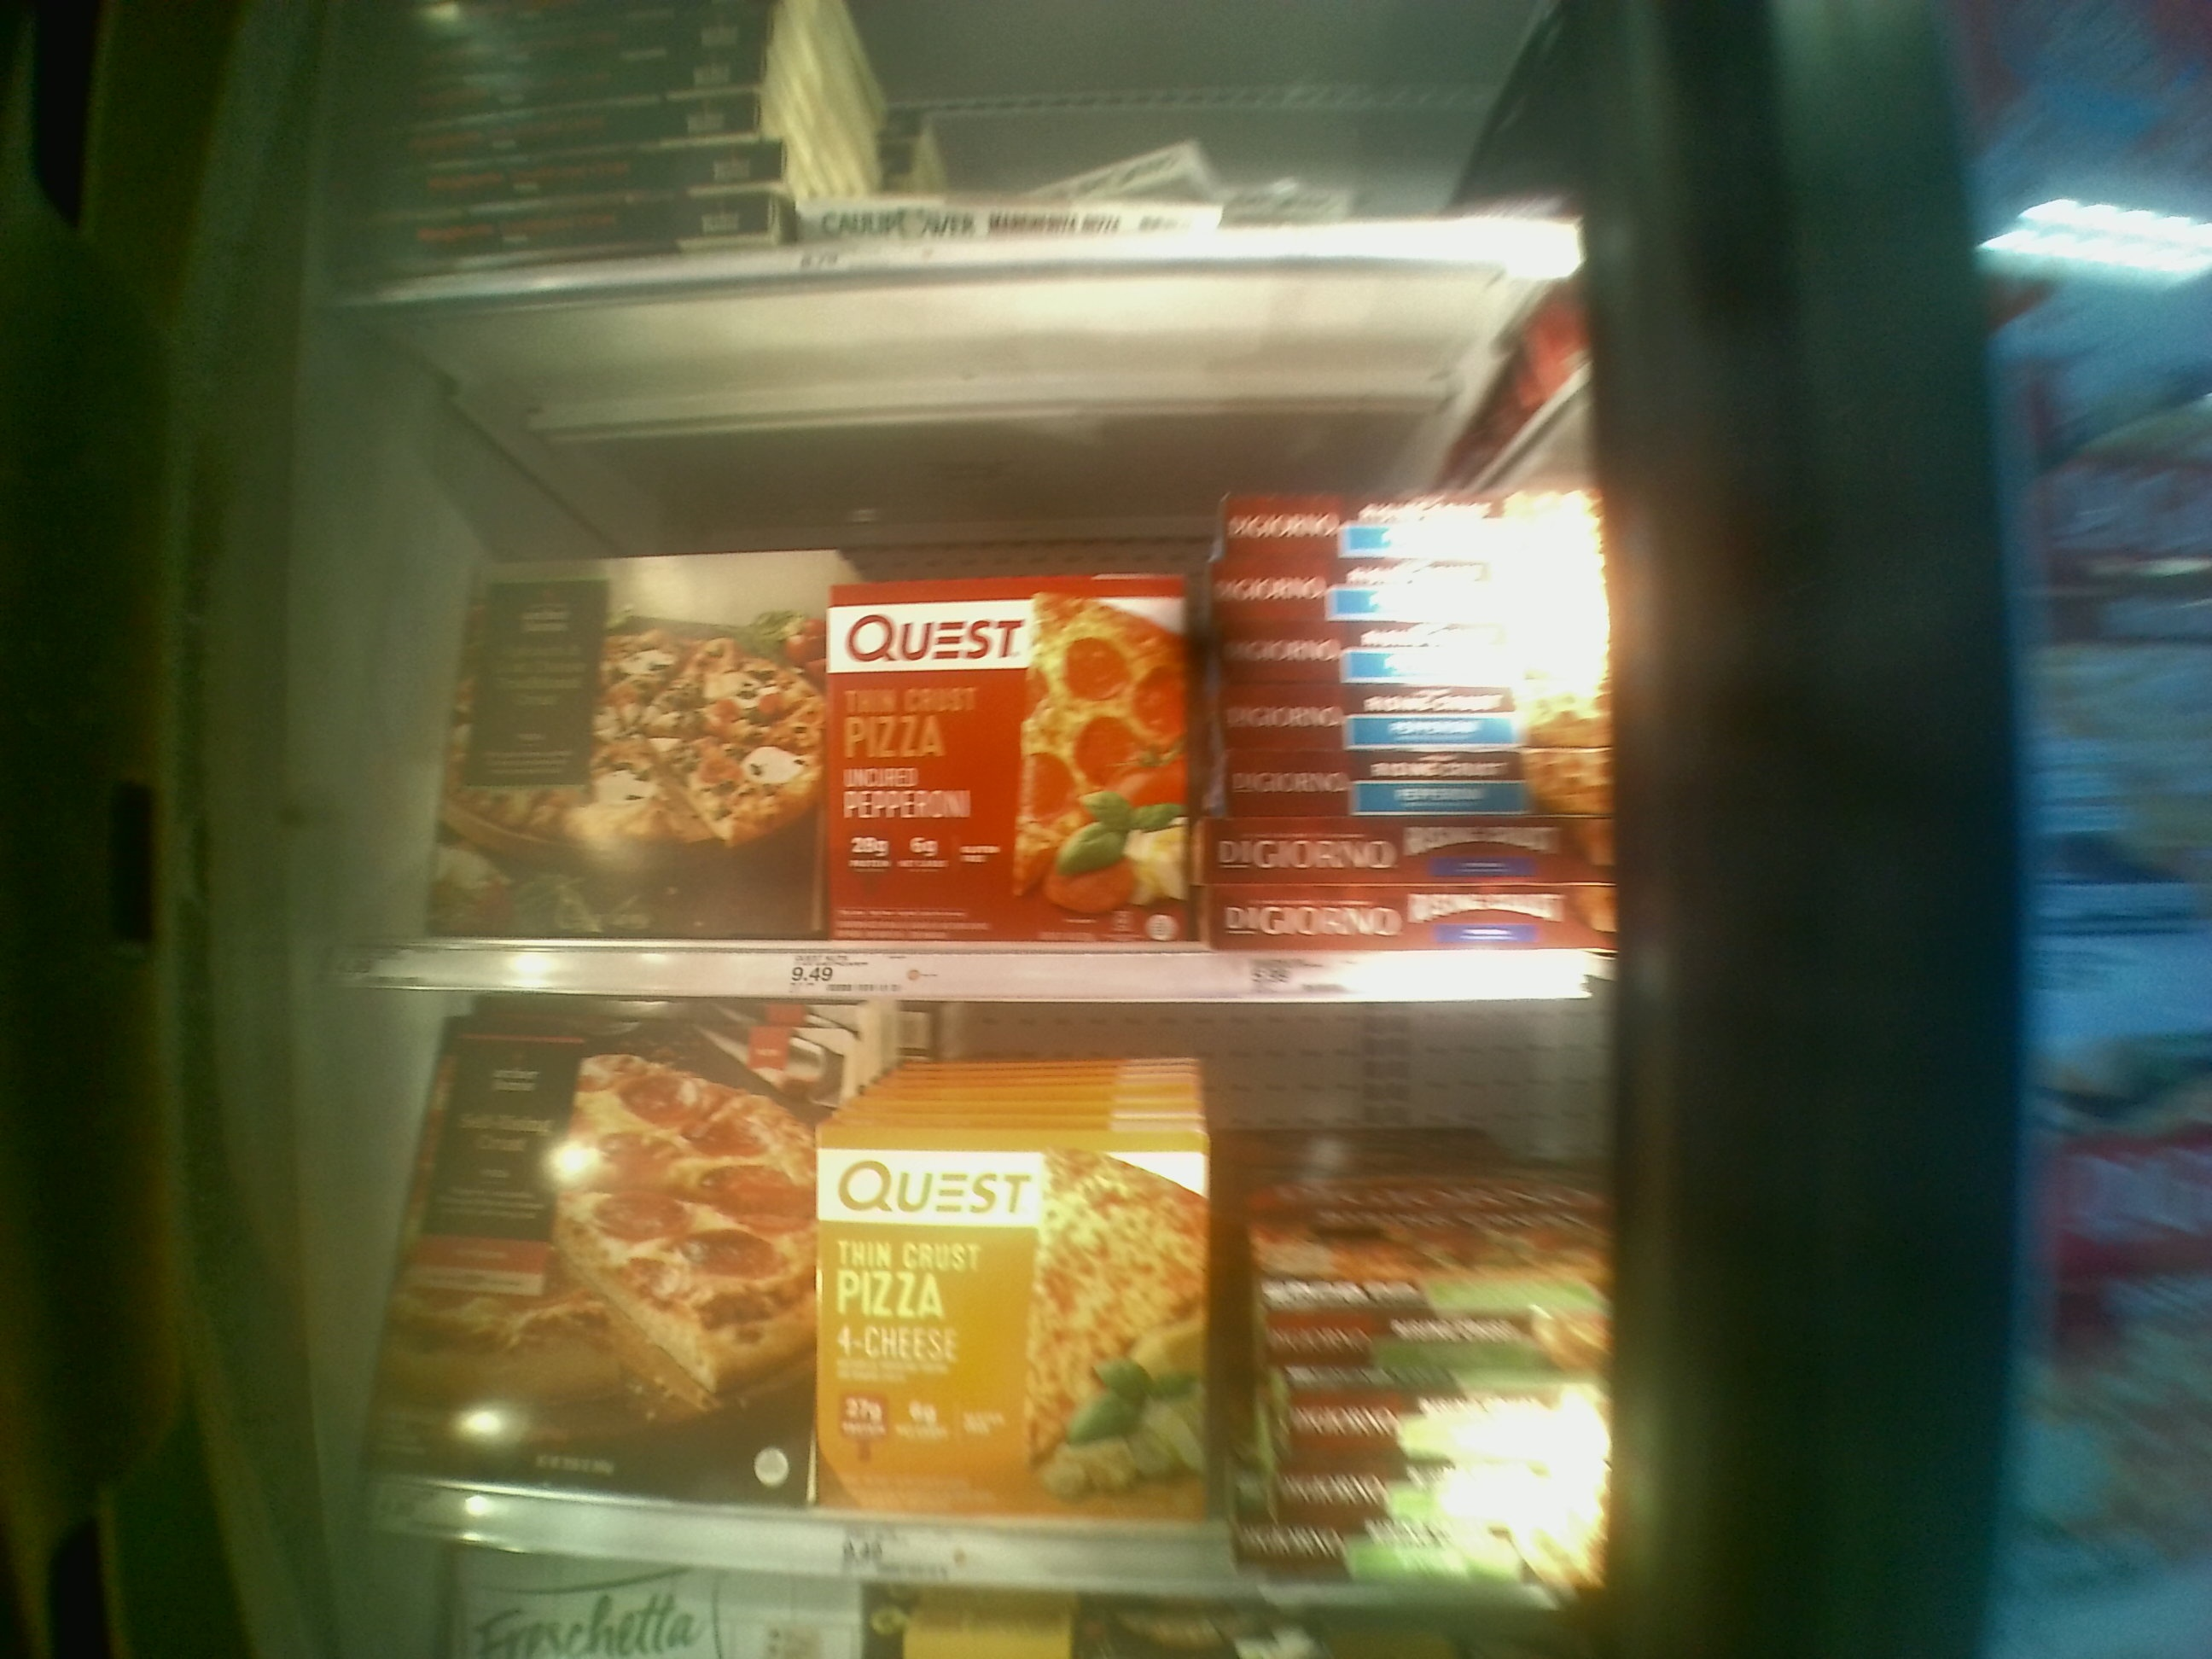shelf: (354, 979, 1627, 1612)
